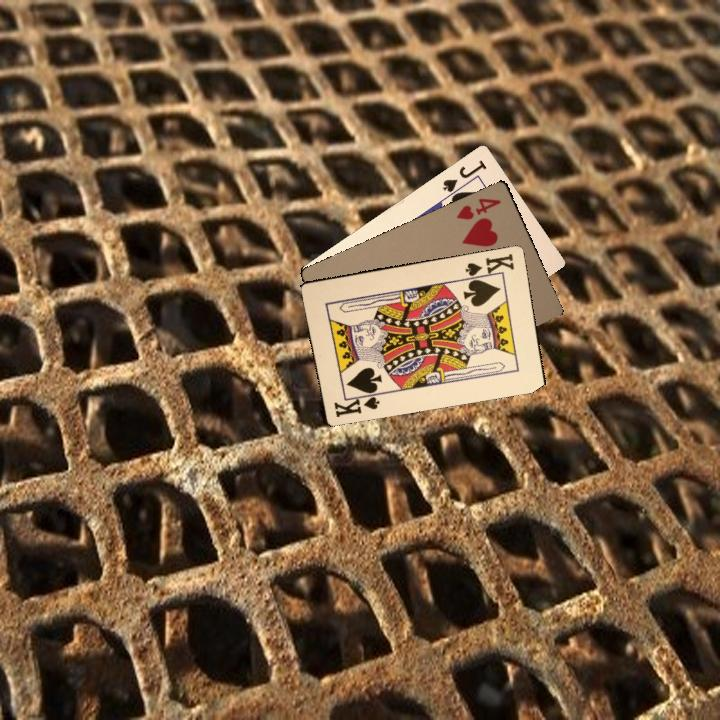4h: (453, 194, 503, 222)
Js: (439, 156, 489, 199)
Ks: (463, 250, 517, 282), (330, 388, 382, 420)
